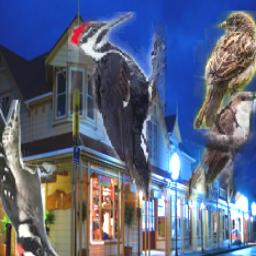Cuckoo: (177, 92, 256, 202)
Sparrow: (193, 12, 256, 130)
Woodpecker: (68, 12, 167, 197), (0, 100, 62, 256)
